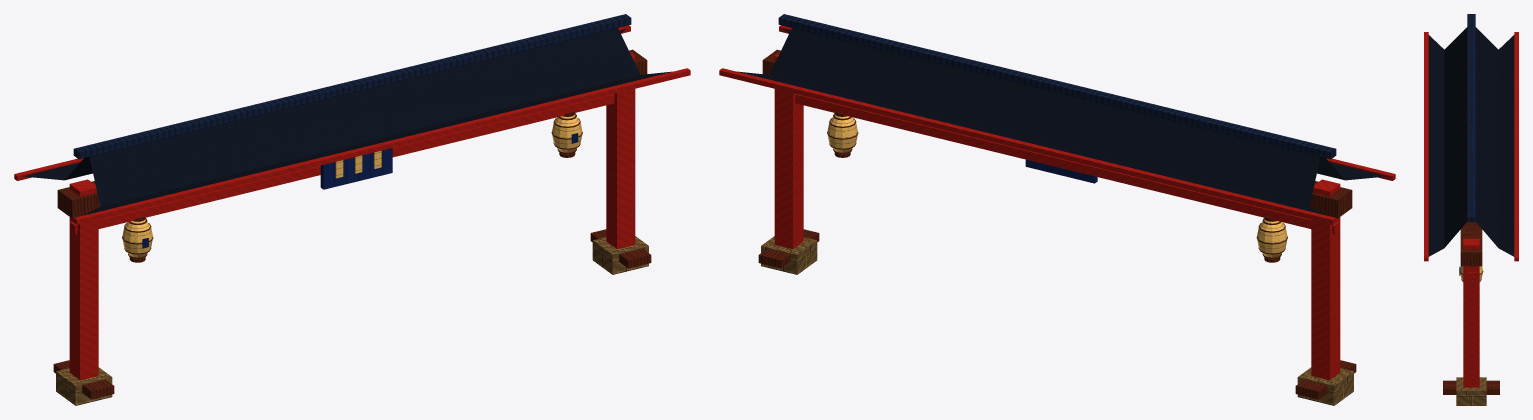
The model's file is tidefall_gate.glb.
3 renders of one model, left to right at view 1: azimuth 30°, elevation 25°; view 2: azimuth 150°, elevation 25°; view 3: azimuth 270°, elevation 25°, orthographic. The views are drawn at different scales.
Parts seen in each view (by area): view 1: tidefall_gate; view 2: tidefall_gate; view 3: tidefall_gate.
Part boxes in pixels (left/top/right/bottom): tidefall_gate: left=14, top=14, right=690, bottom=405; tidefall_gate: left=719, top=14, right=1395, bottom=405; tidefall_gate: left=1424, top=14, right=1518, bottom=405.
Bounding box in the file's own units: 16 × 6.12 × 2.84.
6 materials, 6 textured.
